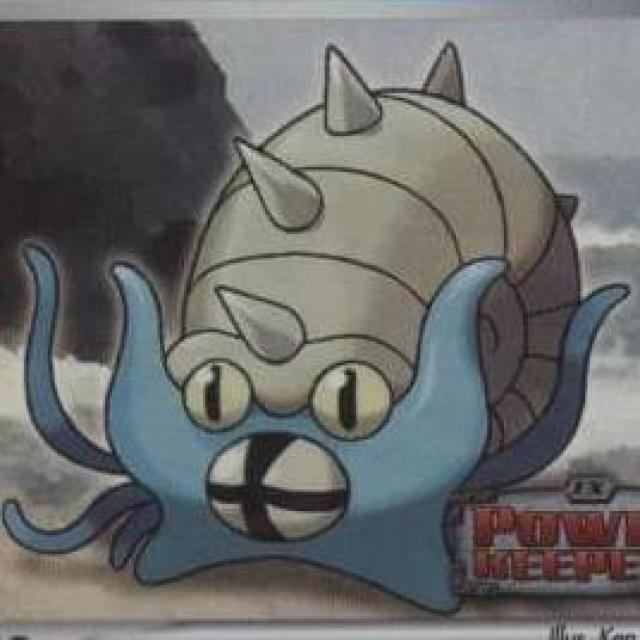Omastar: (104, 70, 507, 616)
